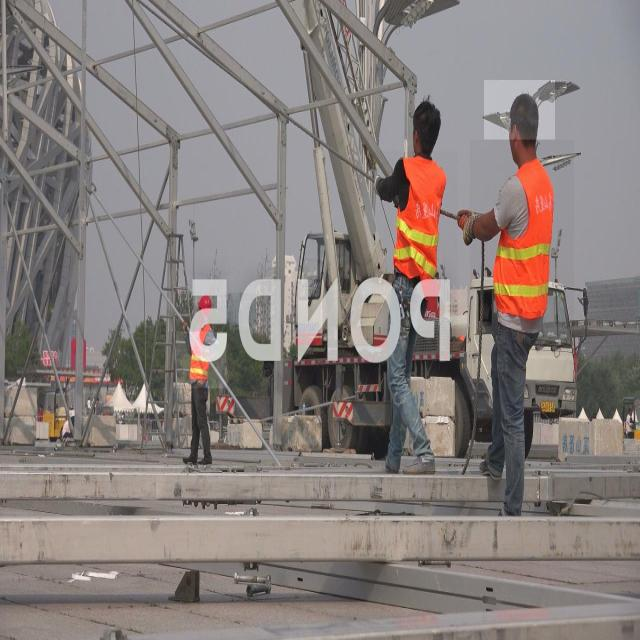Helmet: (484, 80, 555, 182), (396, 86, 450, 180), (168, 276, 234, 332)
Safety Vest: (470, 140, 574, 356), (372, 151, 458, 311), (176, 322, 226, 388)
